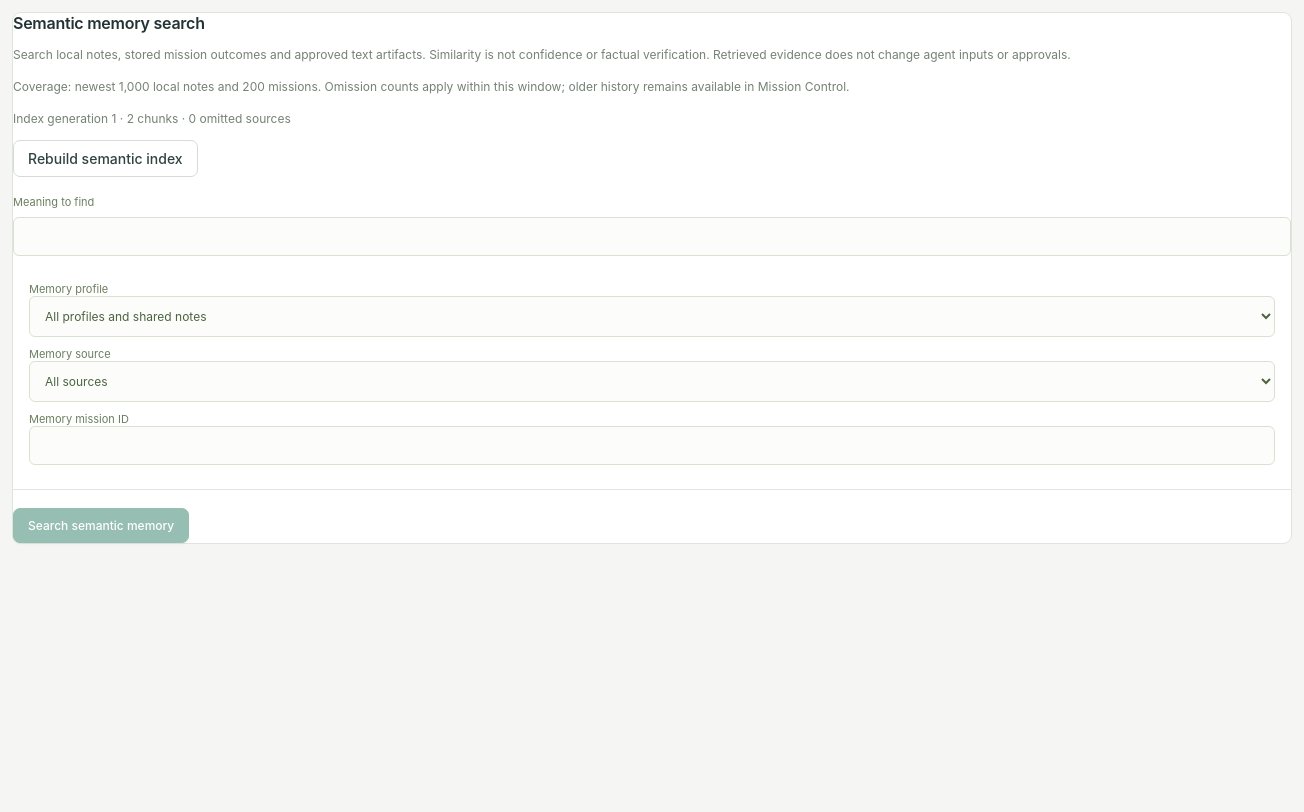
Scenario: rebuild failure reports an error and preserves visible index generation
Expected: the text "Index generation 1 · 2 chunks · 0 omitted sources" is shown, [13,111,291,126]
Click the button "Rebuild semantic index" at [105, 159], box [13,140,198,177]
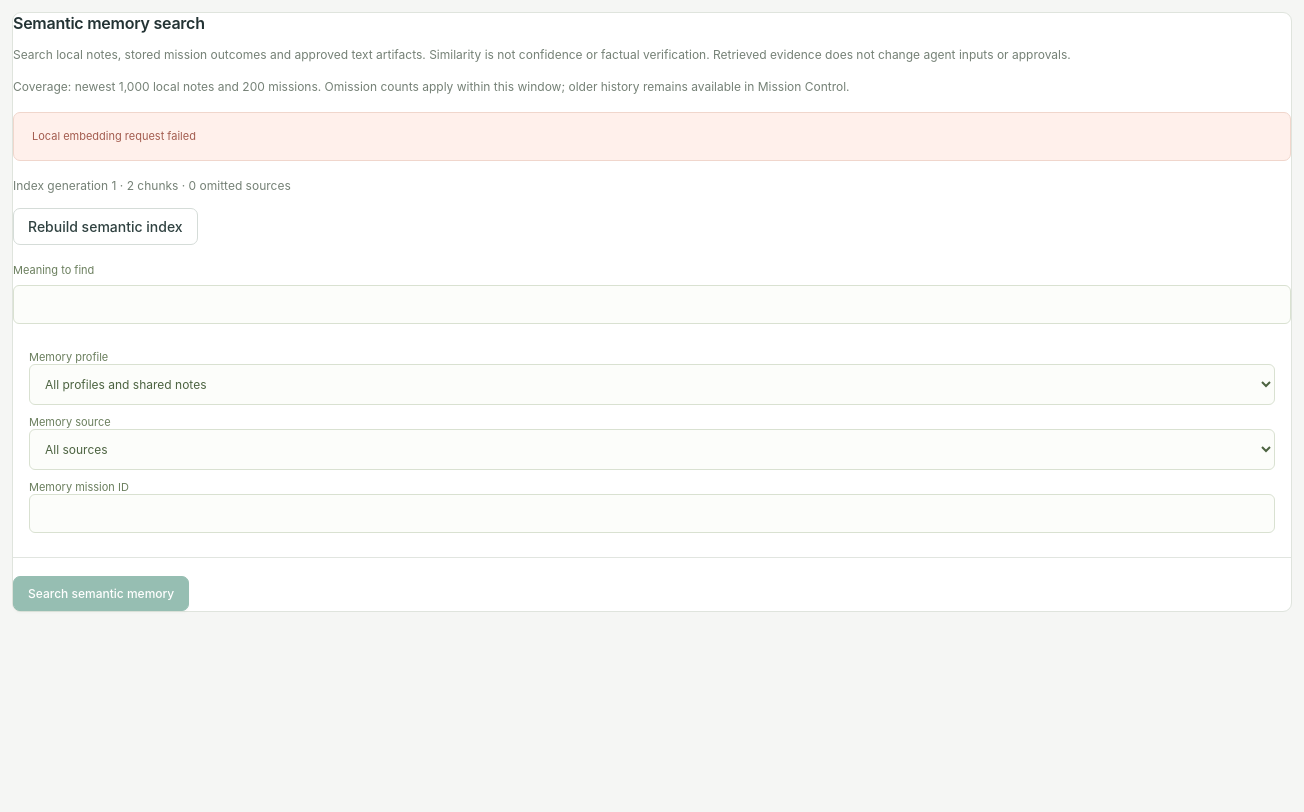
Expected: the text "Index generation 1 · 2 chunks · 0 omitted sources" is shown, [13,178,291,193]
Now the message reads "Local embedding request failed", box [32,129,196,143]
